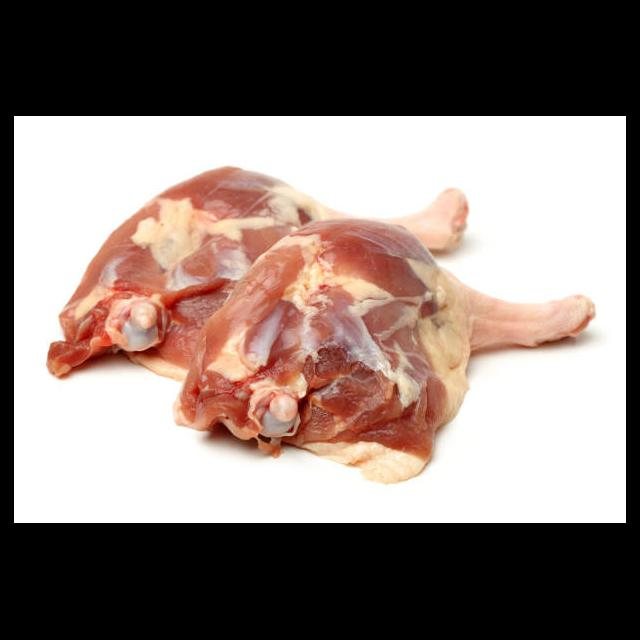chicken: (173, 215, 597, 486), (46, 166, 473, 384)
